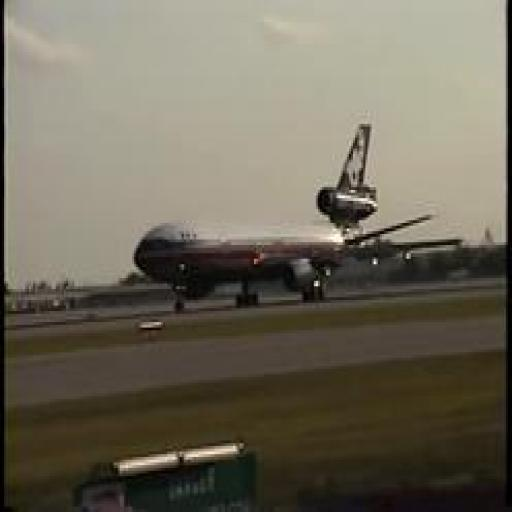aircraft: (131, 118, 463, 311)
